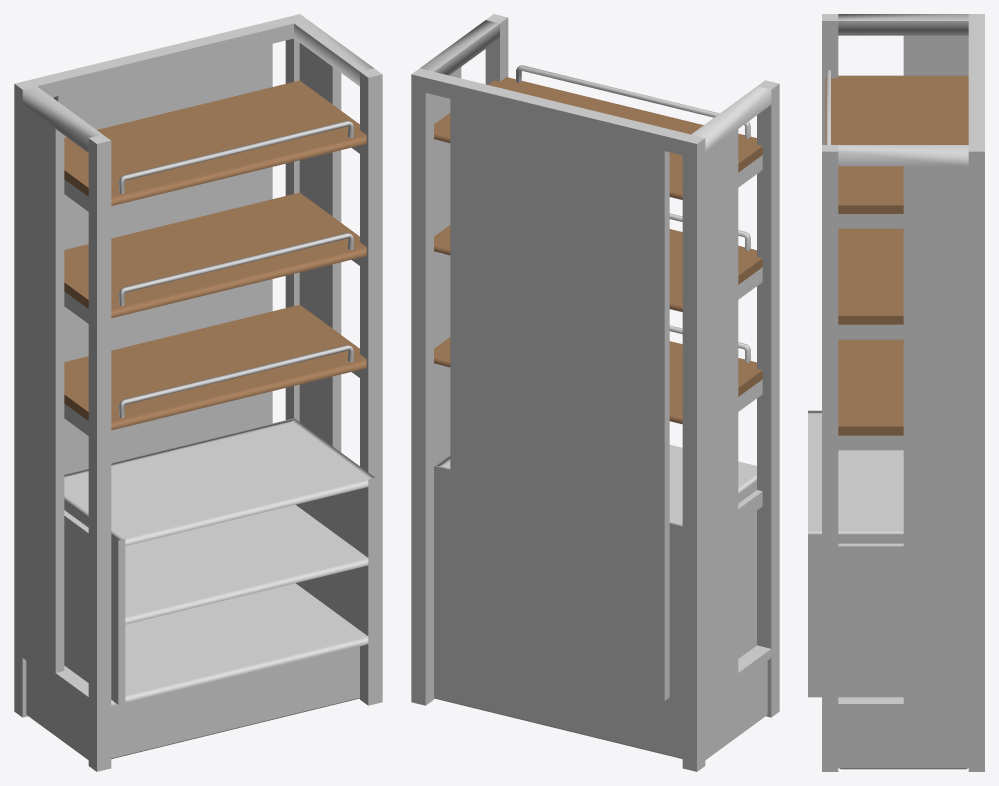
Rendered from Shelf_01c.fbx.
3 views of the same model, side by side, from view 1: azimuth 30°, elevation 25°; view 2: azimuth 150°, elevation 25°; view 3: azimuth 270°, elevation 25° (orthographic).
Parts seen in each view (by area): view 1: Shelf_01c_LOD0; view 2: Shelf_01c_LOD0; view 3: Shelf_01c_LOD0.
Boxes of the visible parts, x1,y1,x2,y2 form: Shelf_01c_LOD0: (14,14,382,771); Shelf_01c_LOD0: (411,14,779,771); Shelf_01c_LOD0: (808,14,984,771).
Size of what is drawn, in the model's own units: 100 by 210 by 54.3.
